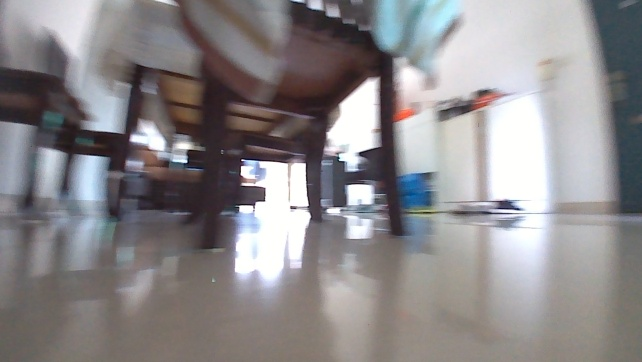dining_table1: (0, 0, 411, 254)
